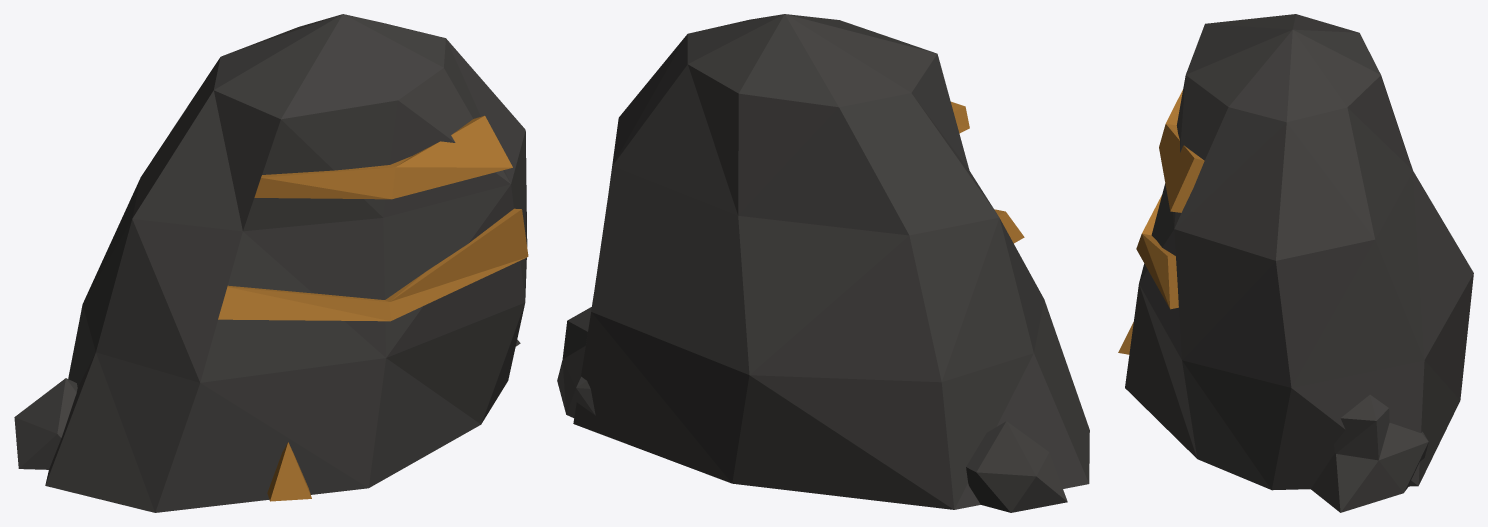
The model's file is RC_OreVein.fbx.
The picture shows the model from 3 angles, left to right: view 1: azimuth 30°, elevation 25°; view 2: azimuth 150°, elevation 25°; view 3: azimuth 270°, elevation 25°; orthographic projection. The views are drawn at different scales.
Visible parts, largest first — view 1: RC_OreVein_Rock, RC_OreVein_Ore; view 2: RC_OreVein_Rock, RC_OreVein_Ore; view 3: RC_OreVein_Rock, RC_OreVein_Ore.
Part boxes in pixels (x1,y1,x2,y2): RC_OreVein_Rock: (14,14,527,512); RC_OreVein_Ore: (218,115,528,501); RC_OreVein_Rock: (557,14,1089,512); RC_OreVein_Ore: (951,101,1024,243); RC_OreVein_Rock: (1125,14,1473,512); RC_OreVein_Ore: (1118,90,1204,354).
Size of the model in its own units: 8 by 6 by 5.
